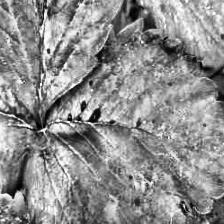Leaf Spot: (20, 16, 224, 224), (0, 0, 132, 128), (129, 0, 224, 61), (0, 188, 85, 224)
